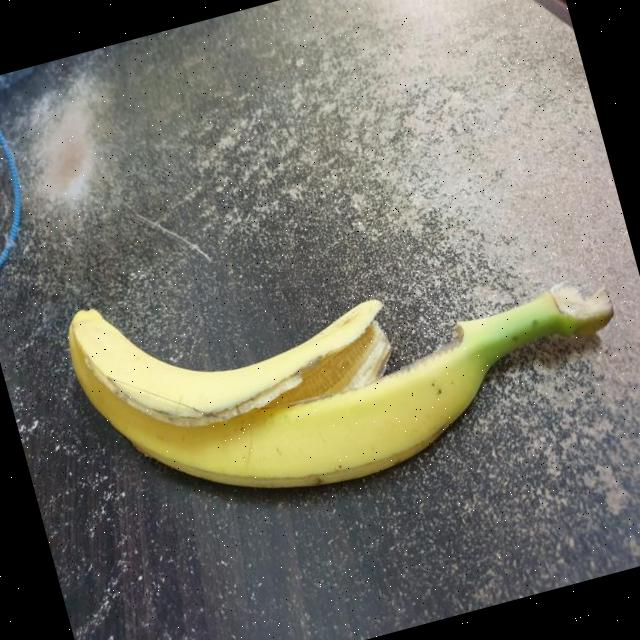banana-peel: (56, 174, 640, 543), (59, 232, 402, 458)
